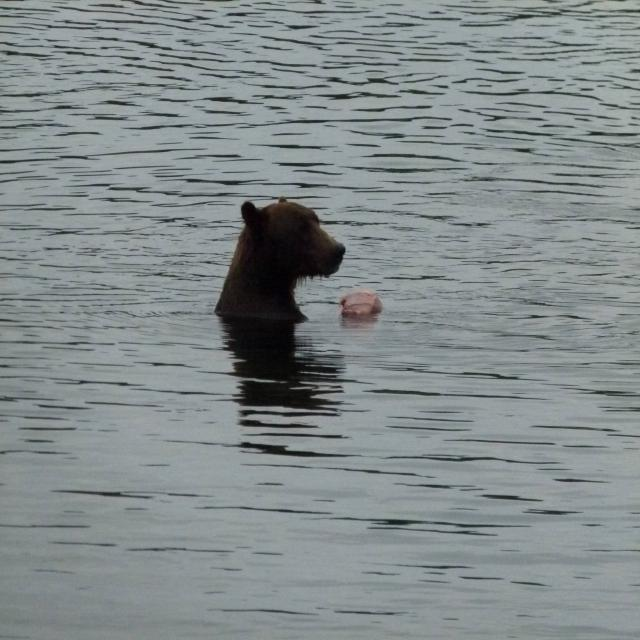bear face: (222, 193, 348, 311)
